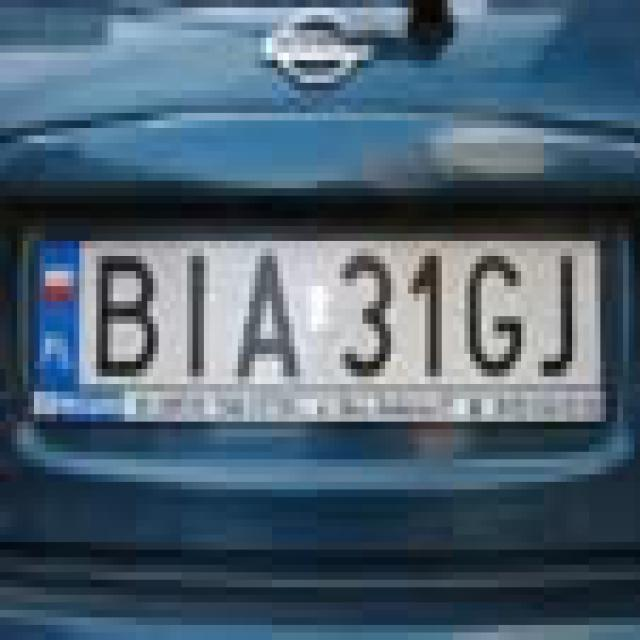pl_license_plate: (28, 226, 589, 376)
